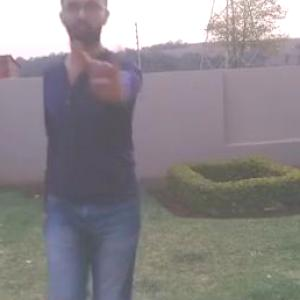takeoff-hand: (76, 30, 132, 97)
